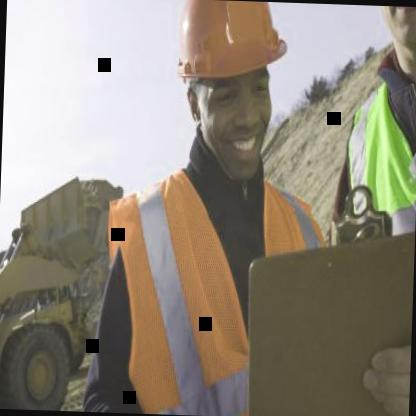helmet: (156, 0, 300, 173)
